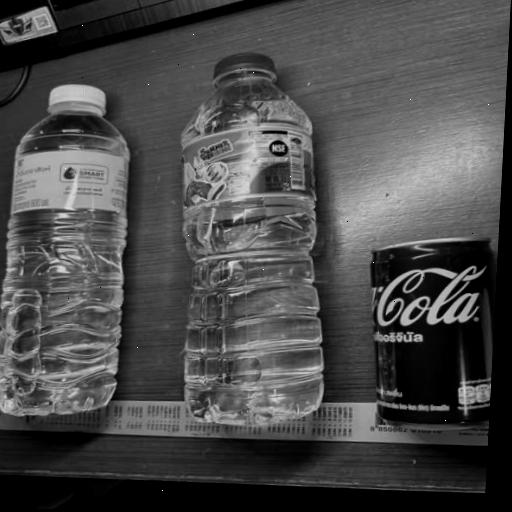ba: (137, 25, 371, 458), (0, 51, 171, 475), (329, 188, 501, 440)
